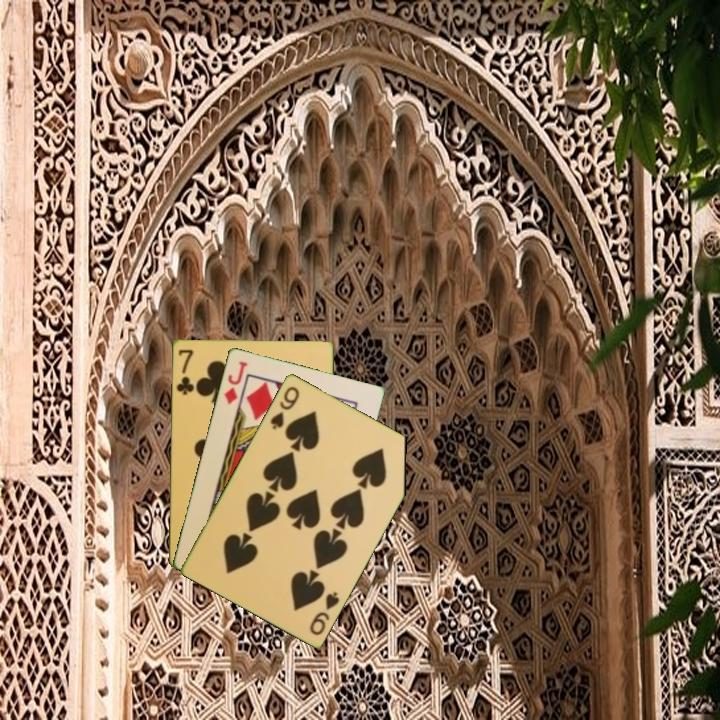7c: (173, 346, 196, 397)
9s: (306, 587, 342, 638), (266, 382, 302, 432)
Jd: (220, 357, 250, 407)
